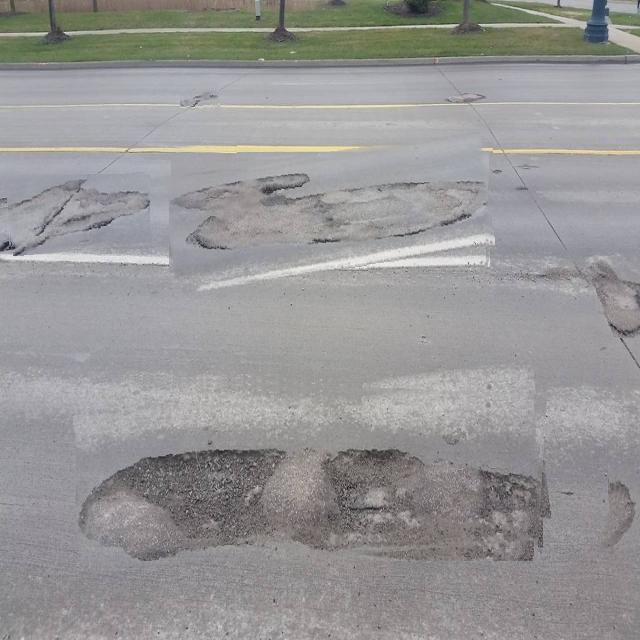Pothole: (76, 374, 547, 561), (169, 142, 493, 283), (8, 175, 150, 252), (582, 257, 640, 338), (603, 466, 640, 555), (180, 75, 220, 119)
